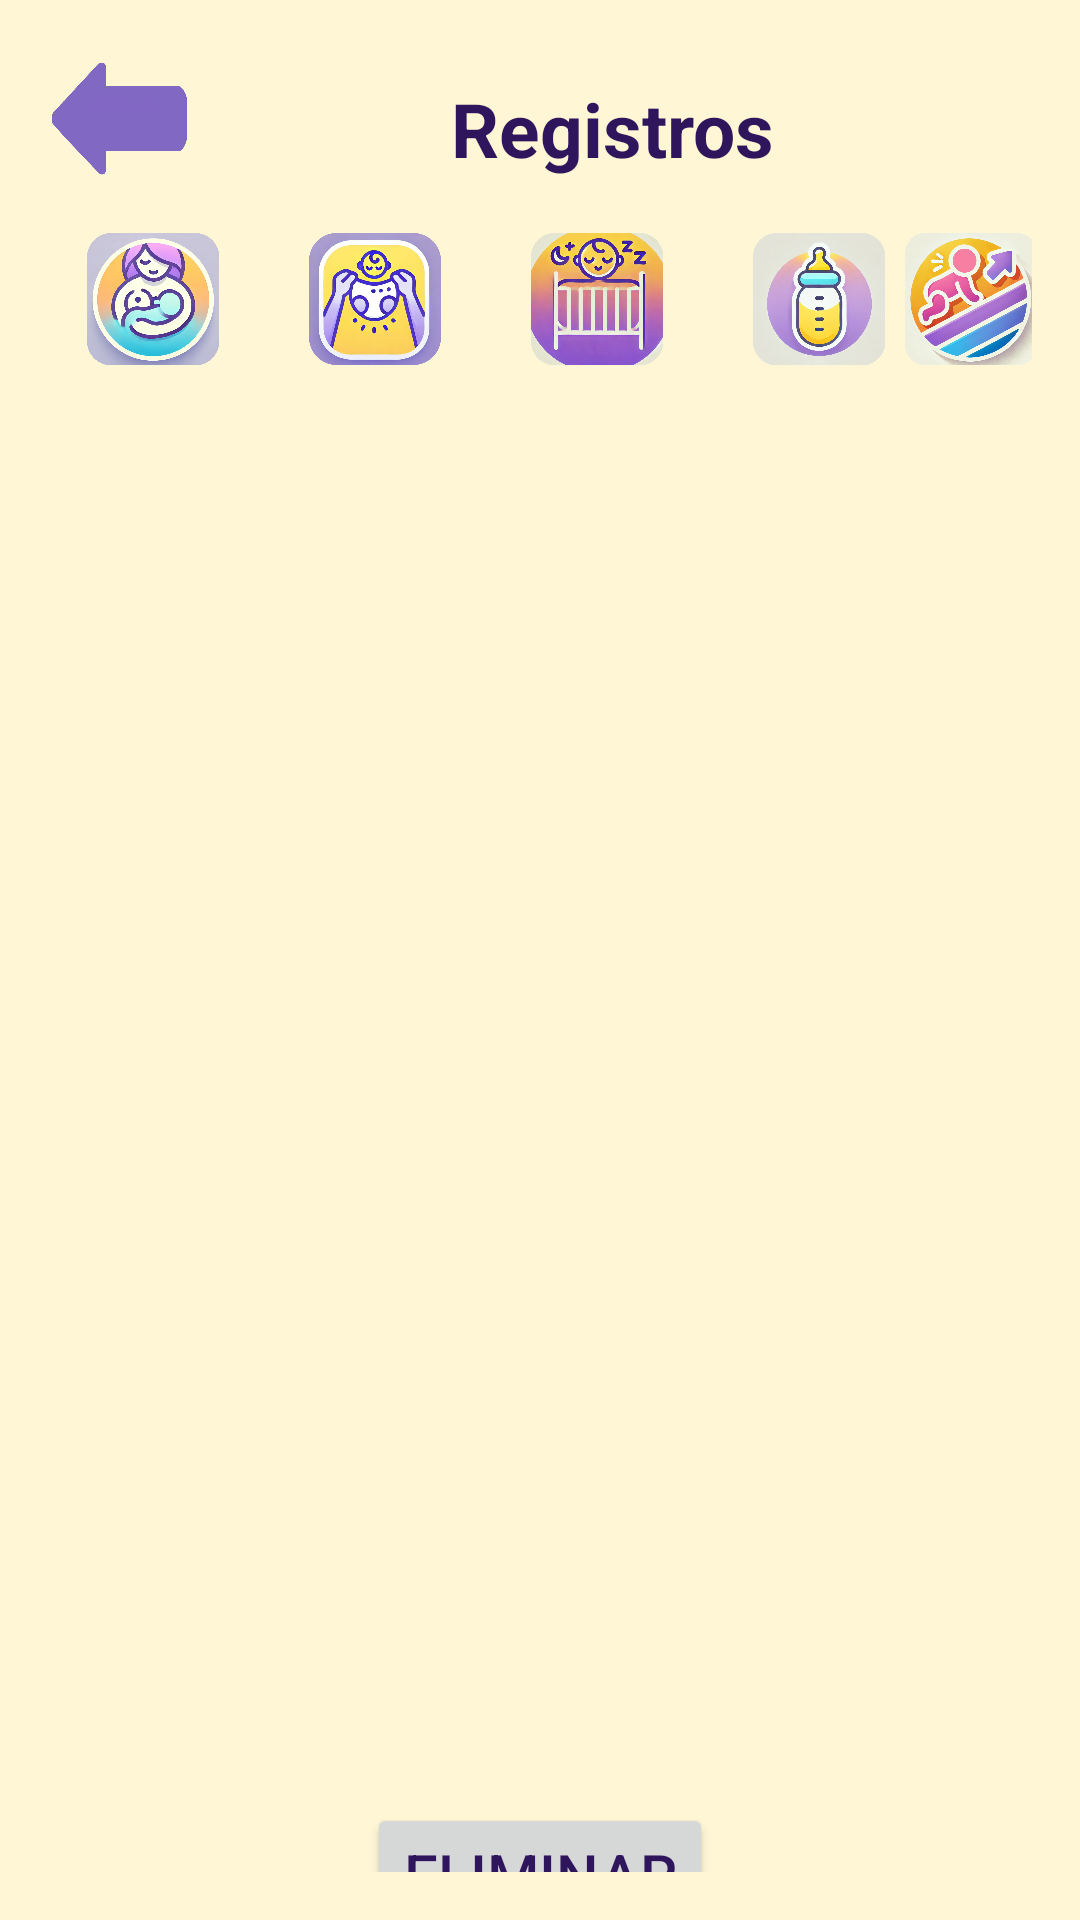

Icons on this 1080 × 1920 Android screen, each with its box as (x1, y1, x2, y2):
Botón atrás: (52, 63, 187, 175)
Botón biberón: (753, 233, 885, 365)
Botón pañal: (309, 233, 441, 365)
Botón pecho: (87, 233, 219, 365)
Botón sueño: (531, 233, 663, 365)
